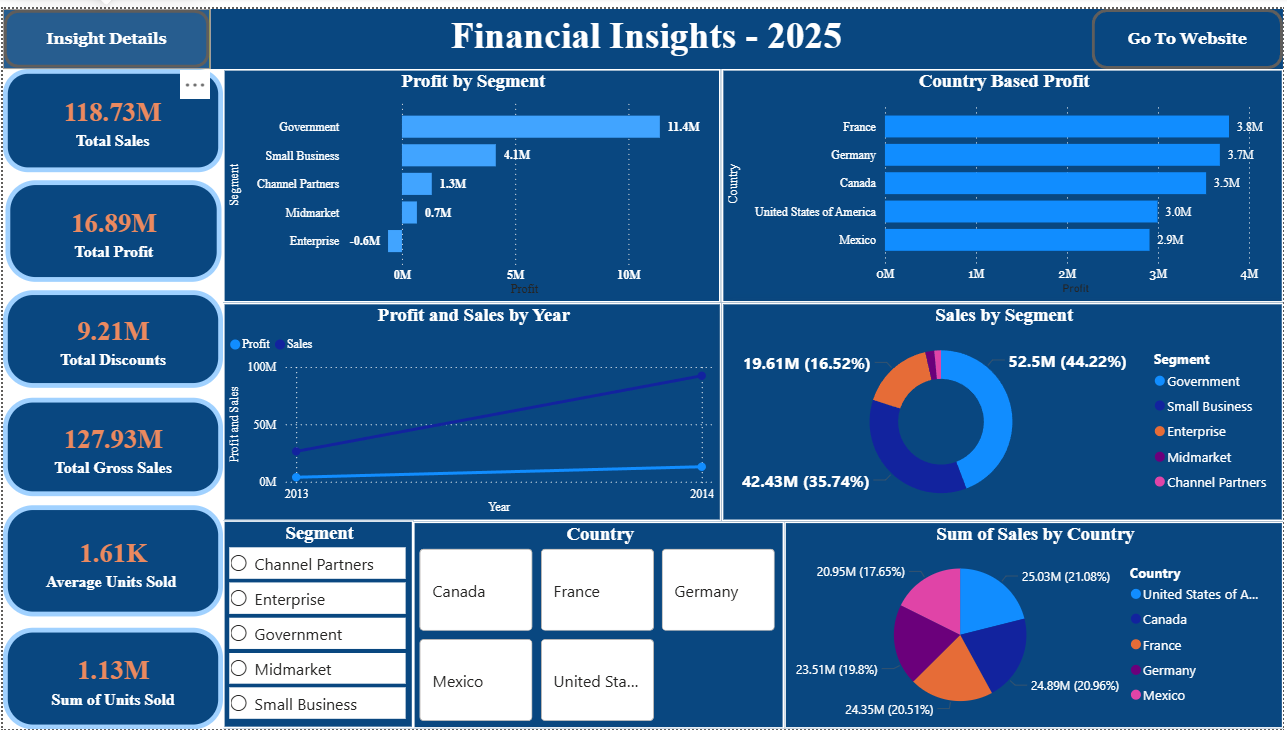

What the dashboard file says about the page in this screenshot:
{"tool":"powerbi","page":{"name":"Financial Dashboard","canvas":[1280,720],"ordinal":0},"visuals":[{"type":"textbox","box":[207.5,0,881.2,60],"z":0},{"type":"card","fields":{"Values":["Sum(financials. Sales)"]},"box":[0,60,220,103.3],"z":1000},{"type":"card","fields":{"Values":["Sum(financials.Profit)"]},"box":[2.5,171.2,216.2,101.2],"z":2000},{"type":"card","fields":{"Values":["Sum(financials.Discounts)"]},"box":[0,281.2,220,97.5],"z":3000},{"type":"card","fields":{"Values":["Sum(financials.Gross Sales)"]},"box":[0,388.8,220,98.8],"z":4000},{"type":"card","fields":{"Values":["financials.Average Units Sold per Product"]},"box":[0,496.2,220,111.2],"z":5000},{"type":"card","fields":{"Values":["Sum(financials.Units Sold)"]},"box":[0,618.8,220,101.2],"z":6000},{"type":"barChart","title":"Profit by Segment","fields":{"Category":["financials.Segment"],"Y":["Sum(financials.Profit)"]},"box":[220,60,497.5,233.8],"z":7000},{"type":"barChart","title":"Country Based Profit ","fields":{"Category":["financials.Country"],"Y":["Sum(financials.Profit)"]},"box":[718.3,60,561.7,233.3],"z":8000},{"type":"lineChart","fields":{"Category":["financials.Date.Variation.Date Hierarchy.Year","financials.Date.Variation.Date Hierarchy.Quarter","financials.Date.Variation.Date Hierarchy.Month","financials.Date.Variation.Date Hierarchy.Day"],"Y":["Sum(financials.Profit)","Sum(financials. Sales)"]},"box":[220,293.3,498.3,218.3],"z":9000},{"type":"donutChart","title":"Sales by Segment","fields":{"Category":["financials.Segment"],"Y":["Sum(financials. Sales)"]},"box":[718.3,293.3,561.7,218.3],"z":10000},{"type":"listSlicer","fields":{"Values":["financials.Segment"]},"box":[220,511.7,190,208.3],"z":11000},{"type":"advancedSlicerVisual","fields":{"Values":["financials.Country"]},"box":[410,512.5,371.2,207.5],"z":12000},{"type":"pieChart","fields":{"Category":["financials.Country"],"Y":["Sum(financials. Sales)"]},"box":[781,513,499,207],"z":13000},{"type":"actionButton","box":[0,0,207.5,60],"z":14000},{"type":"actionButton","box":[1088.8,0,191.2,60],"z":15000}]}

Visuals, with their boxes in screenshot pixels (x1, y1, x2, y2), scaled from the page's 1280x720 canvas onto the 1287x730 screenshot:
textbox: {"x1": 209, "y1": 0, "x2": 1095, "y2": 61}
card - Sum(financials. Sales): {"x1": 0, "y1": 61, "x2": 221, "y2": 166}
card - Sum(financials.Profit): {"x1": 3, "y1": 174, "x2": 220, "y2": 276}
card - Sum(financials.Discounts): {"x1": 0, "y1": 285, "x2": 221, "y2": 384}
card - Sum(financials.Gross Sales): {"x1": 0, "y1": 394, "x2": 221, "y2": 494}
card - financials.Average Units Sold per Product: {"x1": 0, "y1": 503, "x2": 221, "y2": 616}
card - Sum(financials.Units Sold): {"x1": 0, "y1": 627, "x2": 221, "y2": 729}
"Profit by Segment" barChart: {"x1": 221, "y1": 61, "x2": 721, "y2": 298}
"Country Based Profit " barChart: {"x1": 722, "y1": 61, "x2": 1286, "y2": 297}
lineChart - financials.Date.Variation.Date Hierarchy.Year x financials.Date.Variation.Date Hierarchy.Quarter: {"x1": 221, "y1": 297, "x2": 722, "y2": 519}
"Sales by Segment" donutChart: {"x1": 722, "y1": 297, "x2": 1286, "y2": 519}
listSlicer - financials.Segment: {"x1": 221, "y1": 519, "x2": 412, "y2": 729}
advancedSlicerVisual - financials.Country: {"x1": 412, "y1": 520, "x2": 785, "y2": 729}
pieChart - financials.Country x Sum(financials. Sales): {"x1": 785, "y1": 520, "x2": 1286, "y2": 729}
actionButton: {"x1": 0, "y1": 0, "x2": 209, "y2": 61}
actionButton: {"x1": 1095, "y1": 0, "x2": 1286, "y2": 61}
